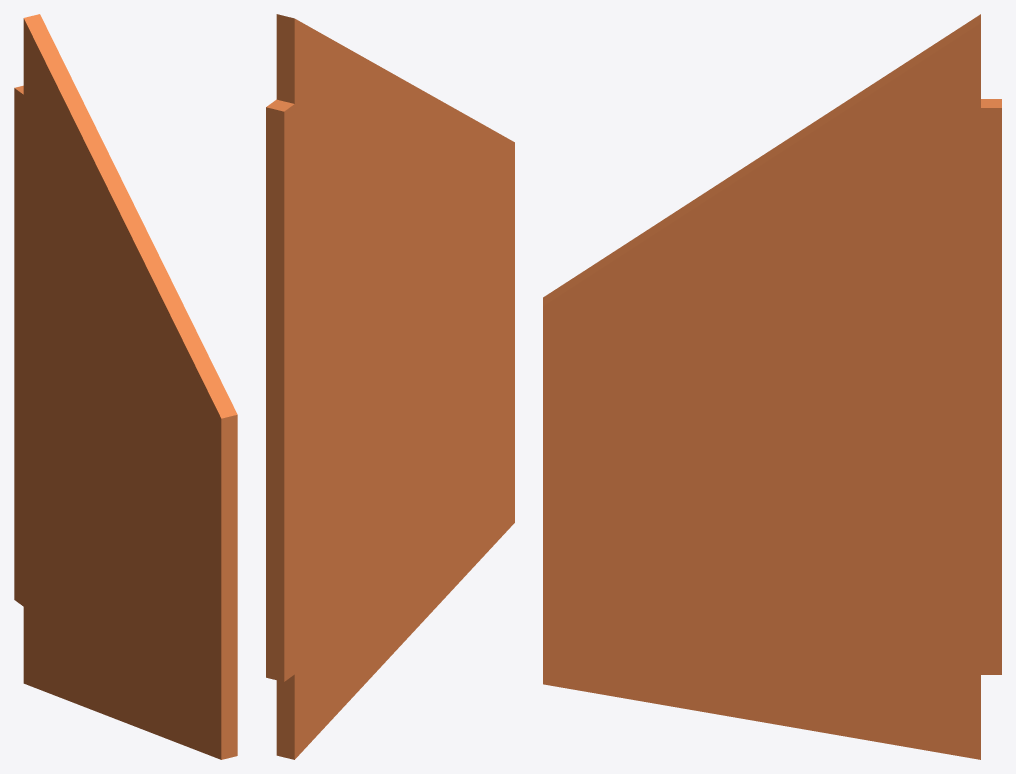
The model's file is WingFlap.fbx.
The picture shows the model from 3 angles, left to right: view 1: azimuth 30°, elevation 25°; view 2: azimuth 150°, elevation 25°; view 3: azimuth 270°, elevation 25°; orthographic projection. The views are drawn at different scales.
Parts seen in each view (by area): view 1: WingFlap; view 2: WingFlap; view 3: WingFlap.
Part boxes in pixels (x1,y1,x2,y2): WingFlap: [14, 14, 237, 759]; WingFlap: [266, 14, 514, 759]; WingFlap: [543, 14, 1001, 759].
Bounding box in the file's own units: 0.002 × 0.078 × 0.044.
